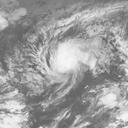cyclone: (48, 38, 92, 80)
